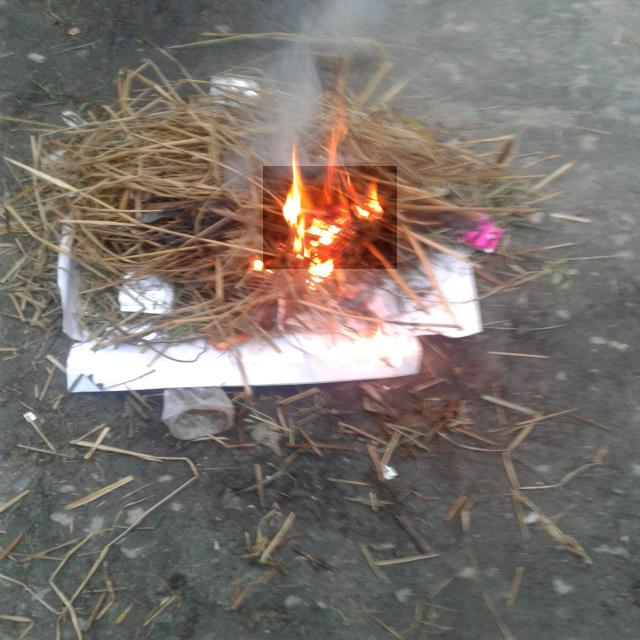Fire: (263, 166, 397, 269)
